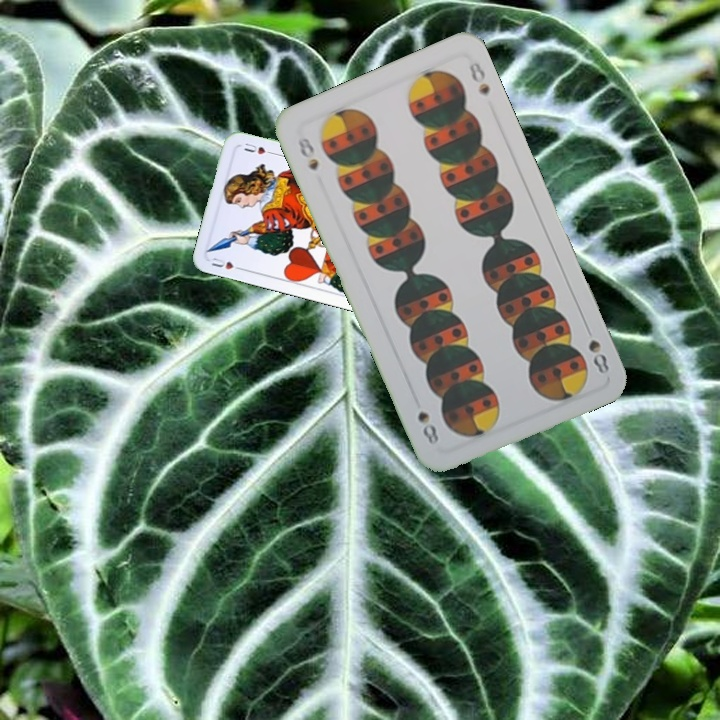HU: (207, 253, 246, 273)
S8: (580, 320, 612, 377), (293, 133, 321, 174)
